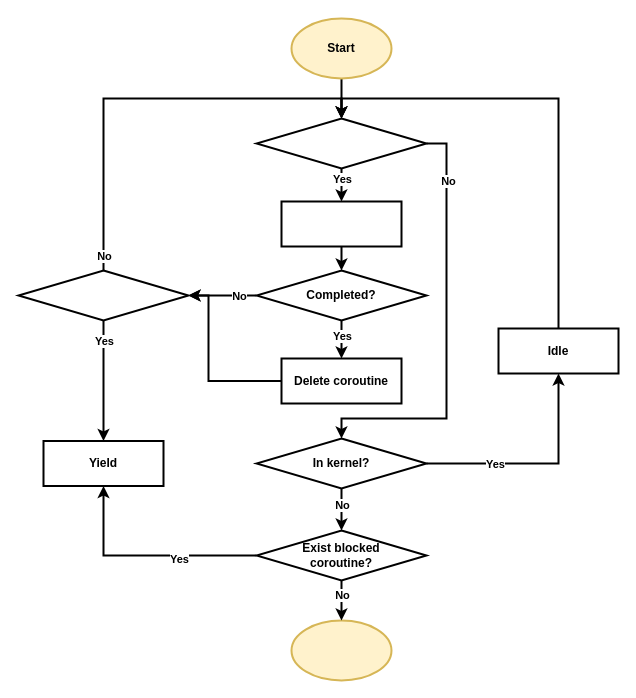
This 636x698 diagram has some shape labels left out. The shapes that lost their labels are listed below. From the top down, each one's centre as x and y in pixels, then its label:
At point (341, 143): "Exist ready coroutine?".
At point (341, 223): "Select and execute a coroutine".
At point (103, 295): "Should yield?".
At point (341, 650): "Exit".
